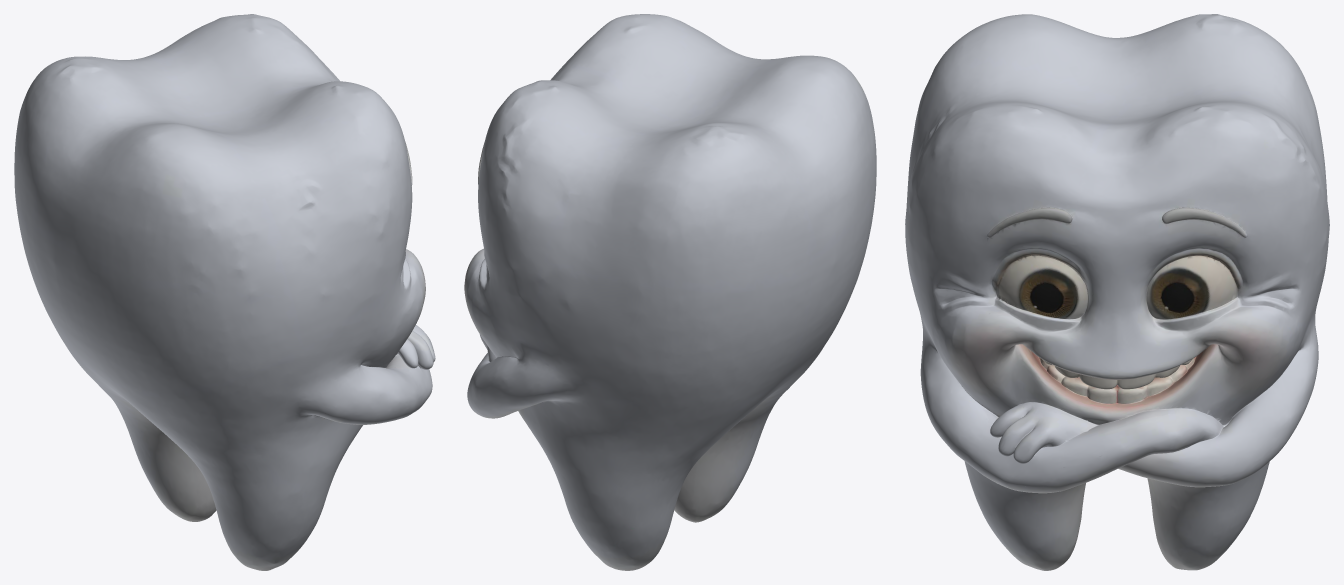
File: glbData_1780604388431_5ex2s.glb
3 renders of one model, left to right at view 1: azimuth 30°, elevation 25°; view 2: azimuth 150°, elevation 25°; view 3: azimuth 270°, elevation 25°, orthographic. The views are drawn at different scales.
Visible parts, largest first — view 1: tripo_node_9cf9ab3b-c02c-44cd-b6c9-7571139d57e9; view 2: tripo_node_9cf9ab3b-c02c-44cd-b6c9-7571139d57e9; view 3: tripo_node_9cf9ab3b-c02c-44cd-b6c9-7571139d57e9.
Part boxes in pixels (x1,y1,x2,y2): tripo_node_9cf9ab3b-c02c-44cd-b6c9-7571139d57e9: [14, 14, 435, 570]; tripo_node_9cf9ab3b-c02c-44cd-b6c9-7571139d57e9: [464, 14, 876, 570]; tripo_node_9cf9ab3b-c02c-44cd-b6c9-7571139d57e9: [905, 14, 1329, 570].
Size of the model in its own units: 0.0763 by 0.1 by 0.0775.
Materials: 1 (1 with a texture image).
